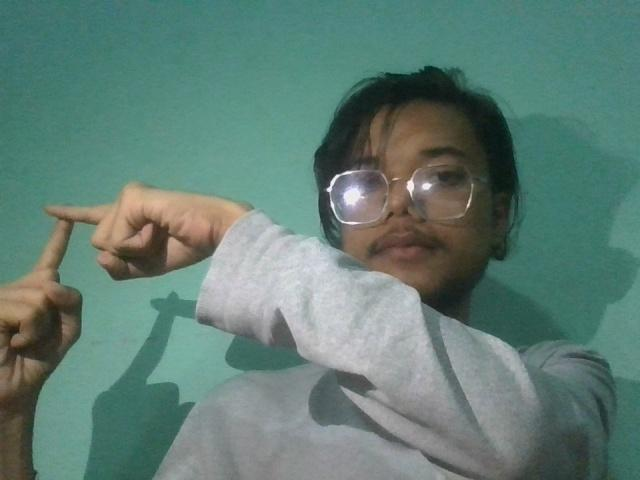When: (0, 159, 243, 435)
